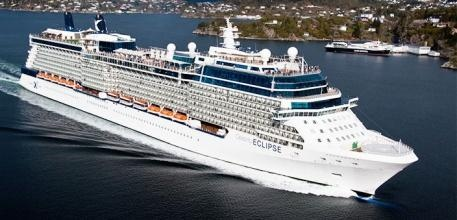youlun: (19, 10, 422, 200)
